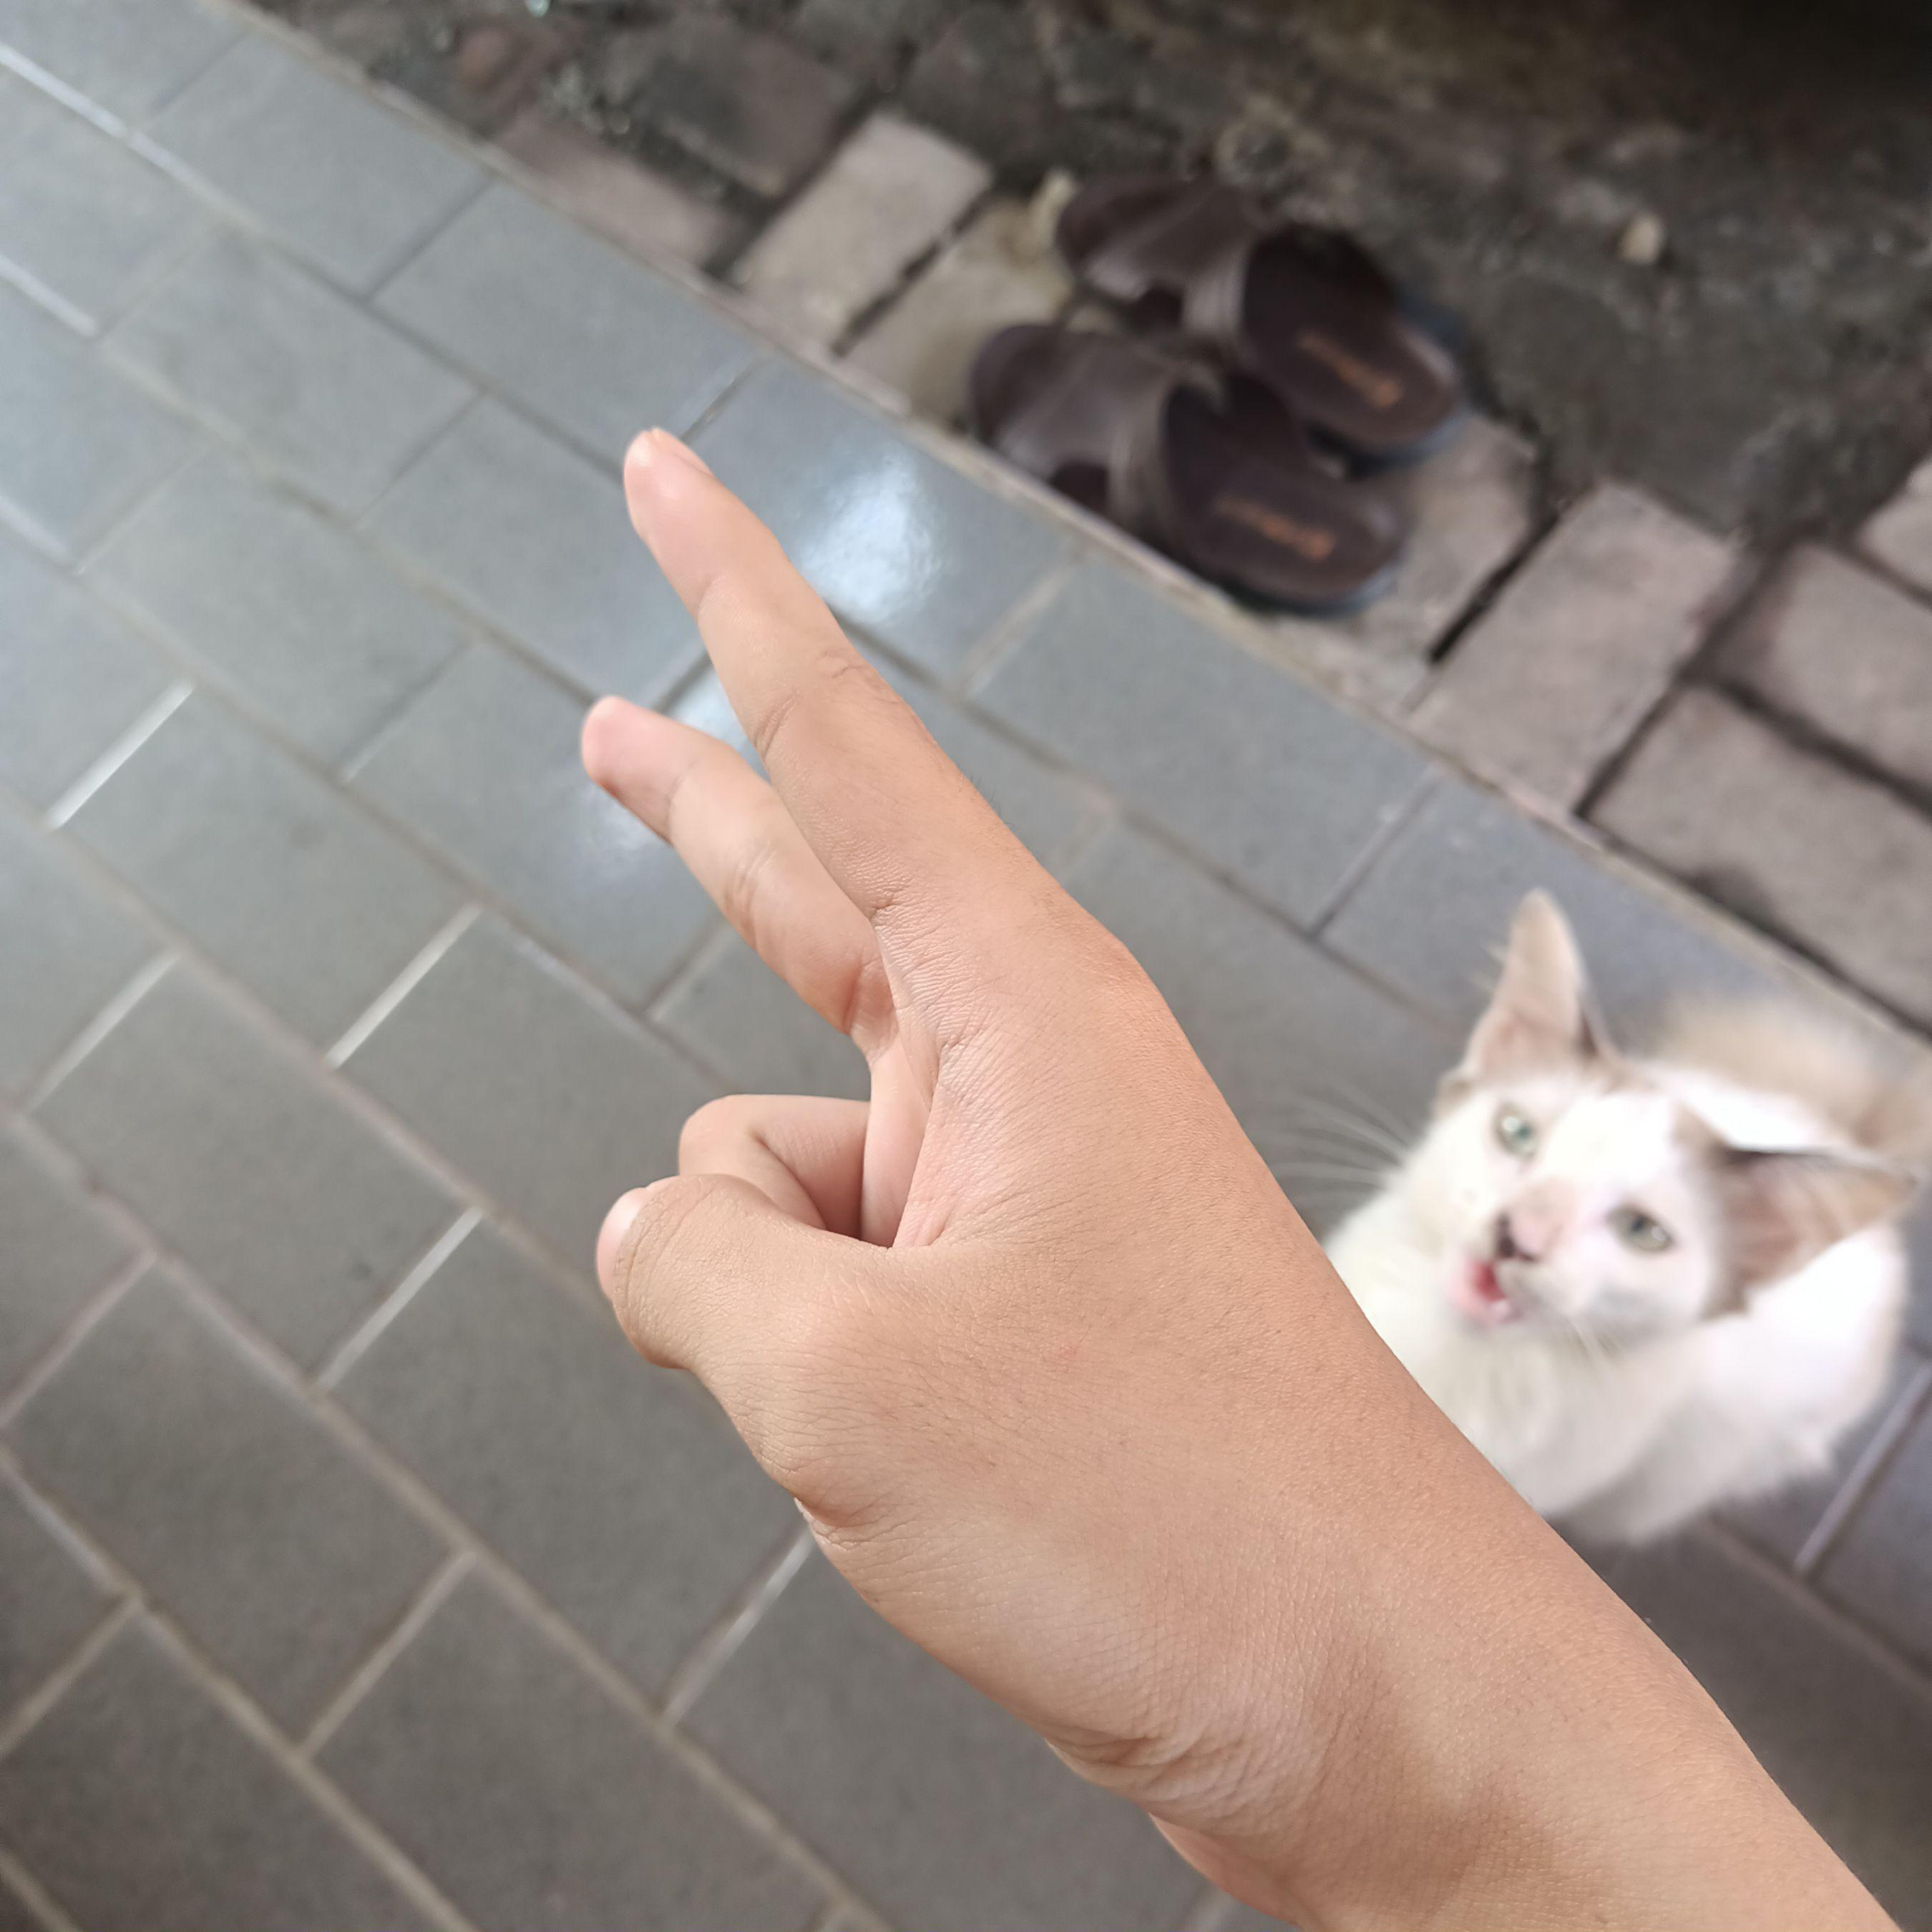scissors: (554, 410, 1514, 1918)
